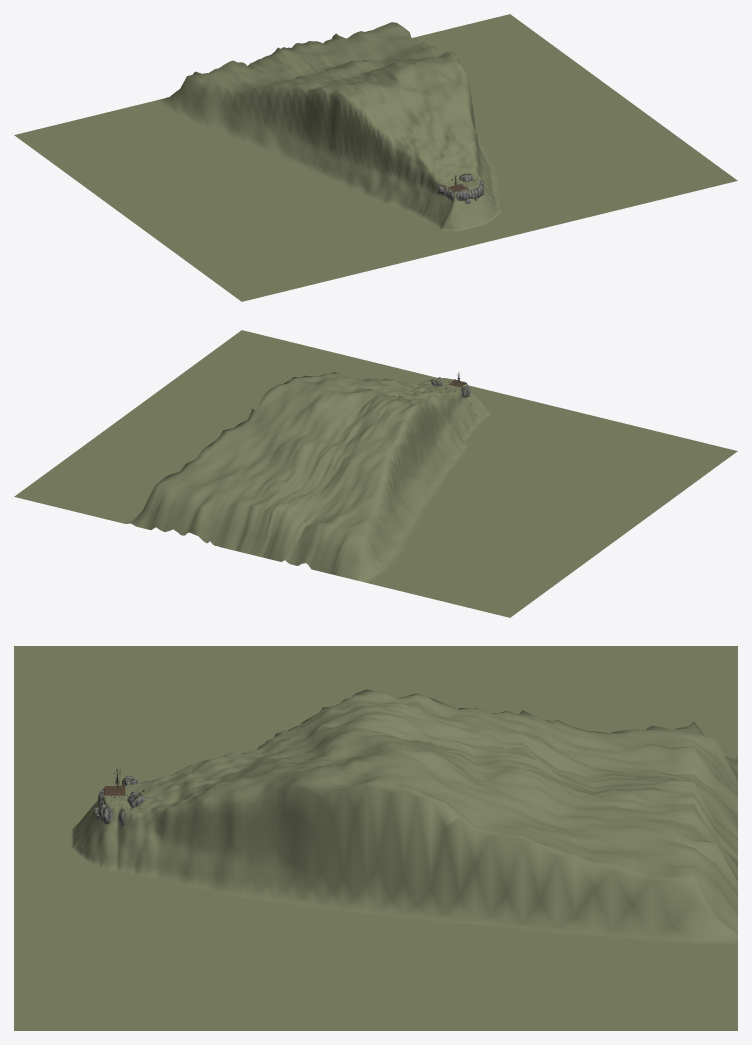
The model's file is site.glb.
3 views of the same model, one above another, from view 1: azimuth 30°, elevation 25°; view 2: azimuth 150°, elevation 25°; view 3: azimuth 270°, elevation 25° (orthographic). The views are drawn at different scales.
Visible parts, largest first — view 1: Terrain, Rocks; view 2: Terrain; view 3: Terrain, Rocks.
Boxes of the visible parts, x1,y1,x2,y2 form: Terrain: (14, 14, 737, 301); Rocks: (435, 173, 484, 216); Terrain: (14, 330, 737, 617); Terrain: (14, 646, 737, 1030); Rocks: (94, 776, 151, 825).
Size of the model in its own units: 660 by 98.64 by 525.
12 materials, 6 textured.
